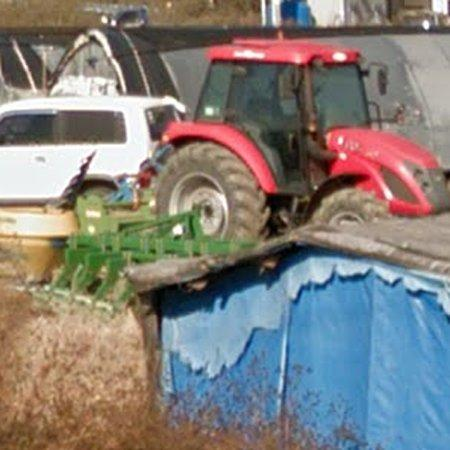tractors: (157, 39, 450, 240)
